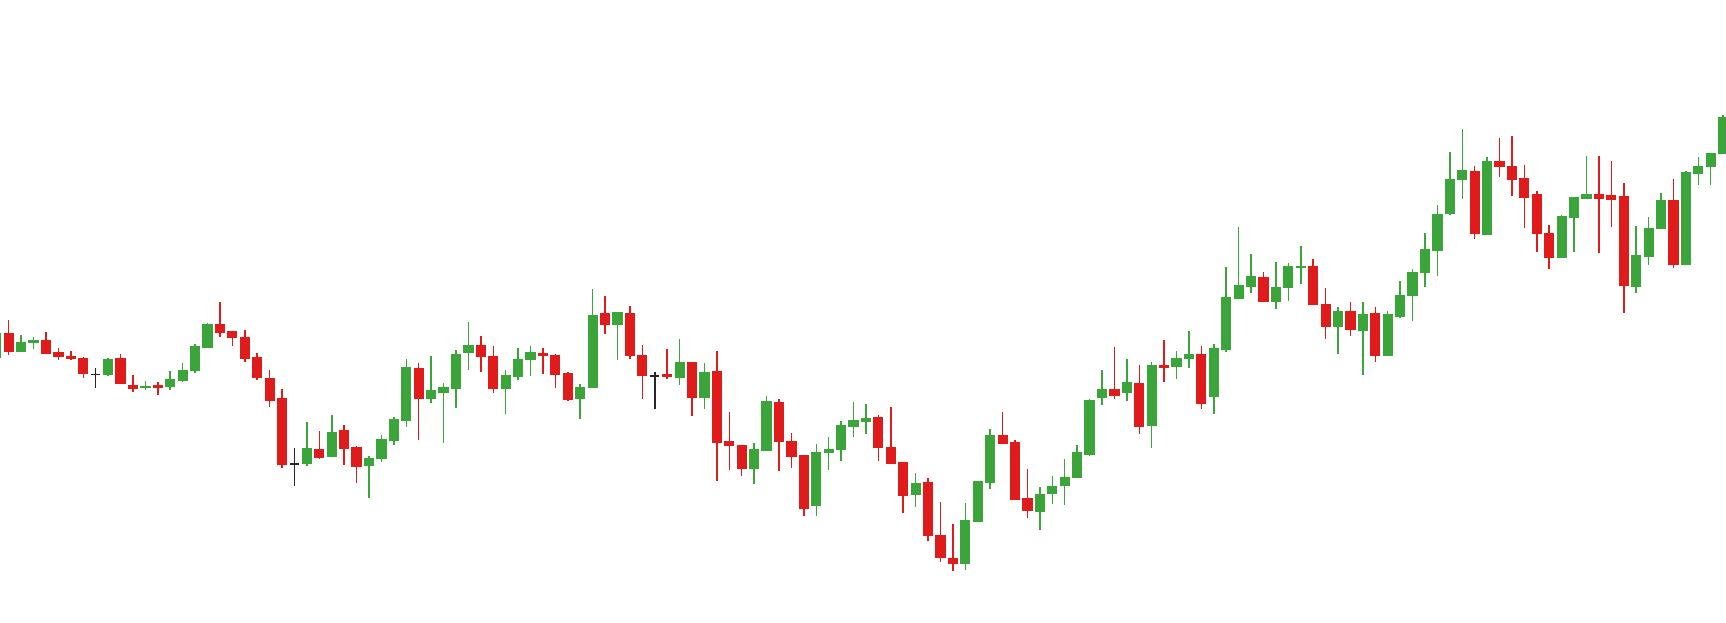buy: (1541, 208, 1643, 310)
sell: (458, 293, 634, 383)
